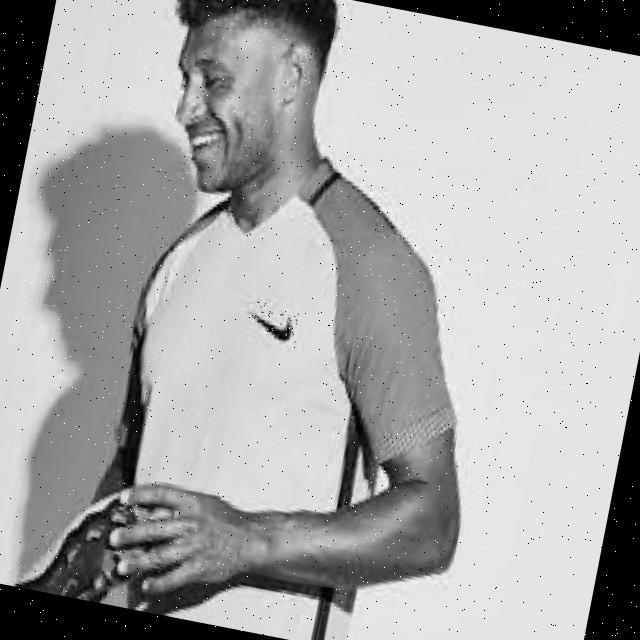Nike: (246, 301, 302, 344)
